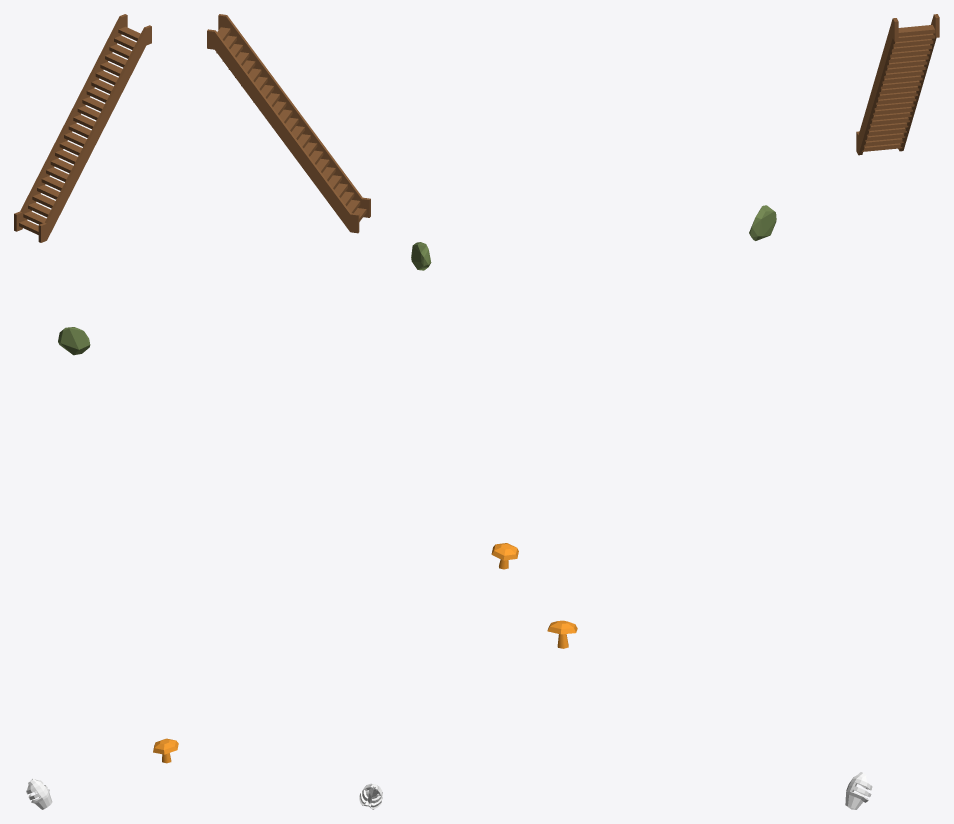
3 renders of one model, left to right at view 1: azimuth 30°, elevation 25°; view 2: azimuth 150°, elevation 25°; view 3: azimuth 270°, elevation 25°, orthographic. The views are drawn at different scales.
Visible parts, largest first — view 1: Plane248_brown_0, Box679_green3_0, Sphere290_white_0, Cylinder1485_orange_0; view 2: Plane248_brown_0; view 3: Plane248_brown_0.
Part boxes in pixels (x1=…): Plane248_brown_0: x1=14, y1=14, x2=151, y2=242; Box679_green3_0: x1=58, y1=327, x2=90, y2=355; Sphere290_white_0: x1=26, y1=778, x2=52, y2=809; Cylinder1485_orange_0: x1=153, y1=738, x2=178, y2=763; Plane248_brown_0: x1=207, y1=14, x2=370, y2=233; Plane248_brown_0: x1=856, y1=14, x2=939, y2=155.
Size of the model in its own units: 385 by 1855 by 768.
